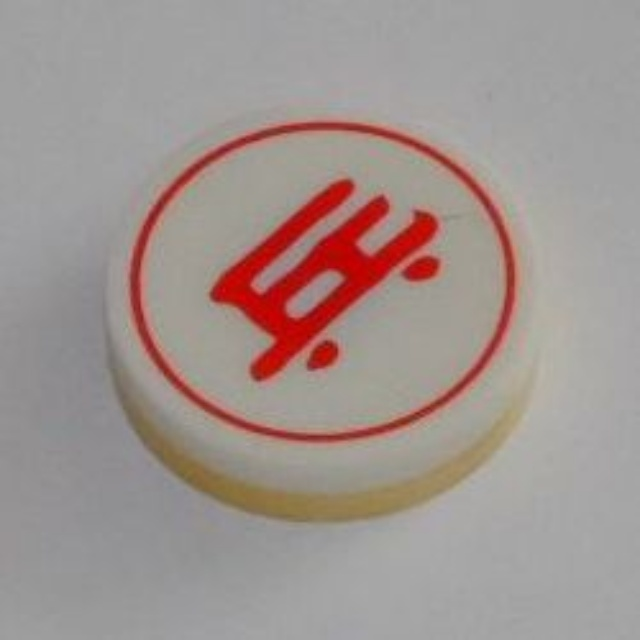red_chot: (88, 90, 553, 521)
